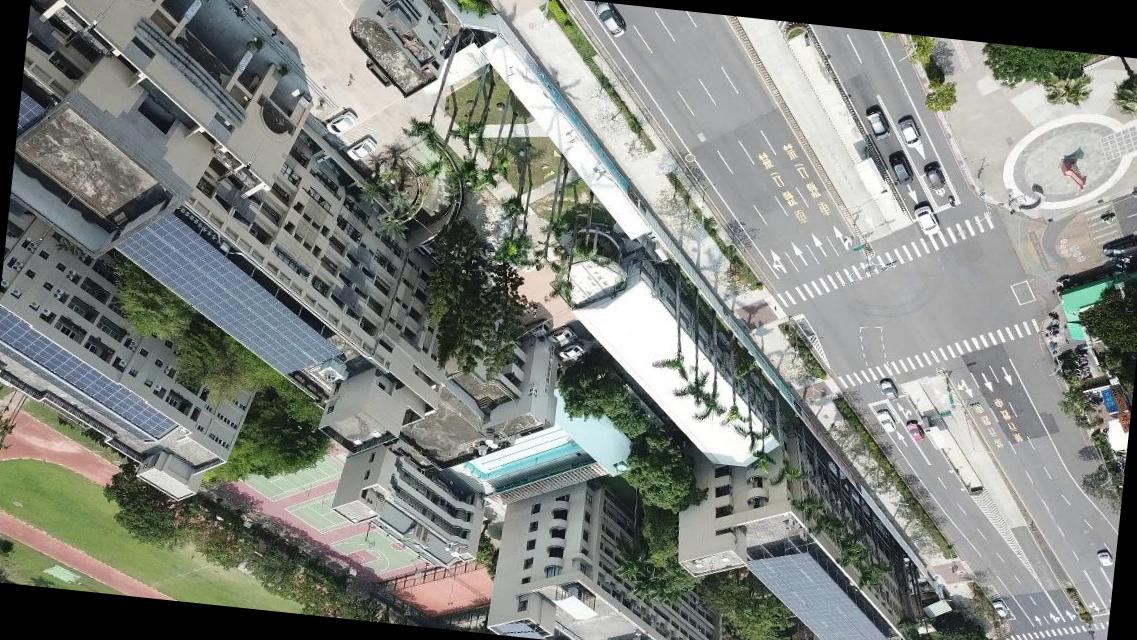vehicle: (591, 1, 629, 38), (1098, 231, 1136, 263), (886, 150, 914, 186), (864, 104, 891, 141), (912, 202, 940, 235), (345, 133, 376, 162), (326, 106, 358, 134), (897, 115, 923, 146), (923, 162, 946, 190), (559, 339, 585, 362), (522, 318, 548, 340), (545, 327, 572, 348), (874, 409, 895, 434), (879, 378, 900, 402), (906, 421, 924, 441), (990, 598, 1008, 616), (1095, 550, 1112, 568)
